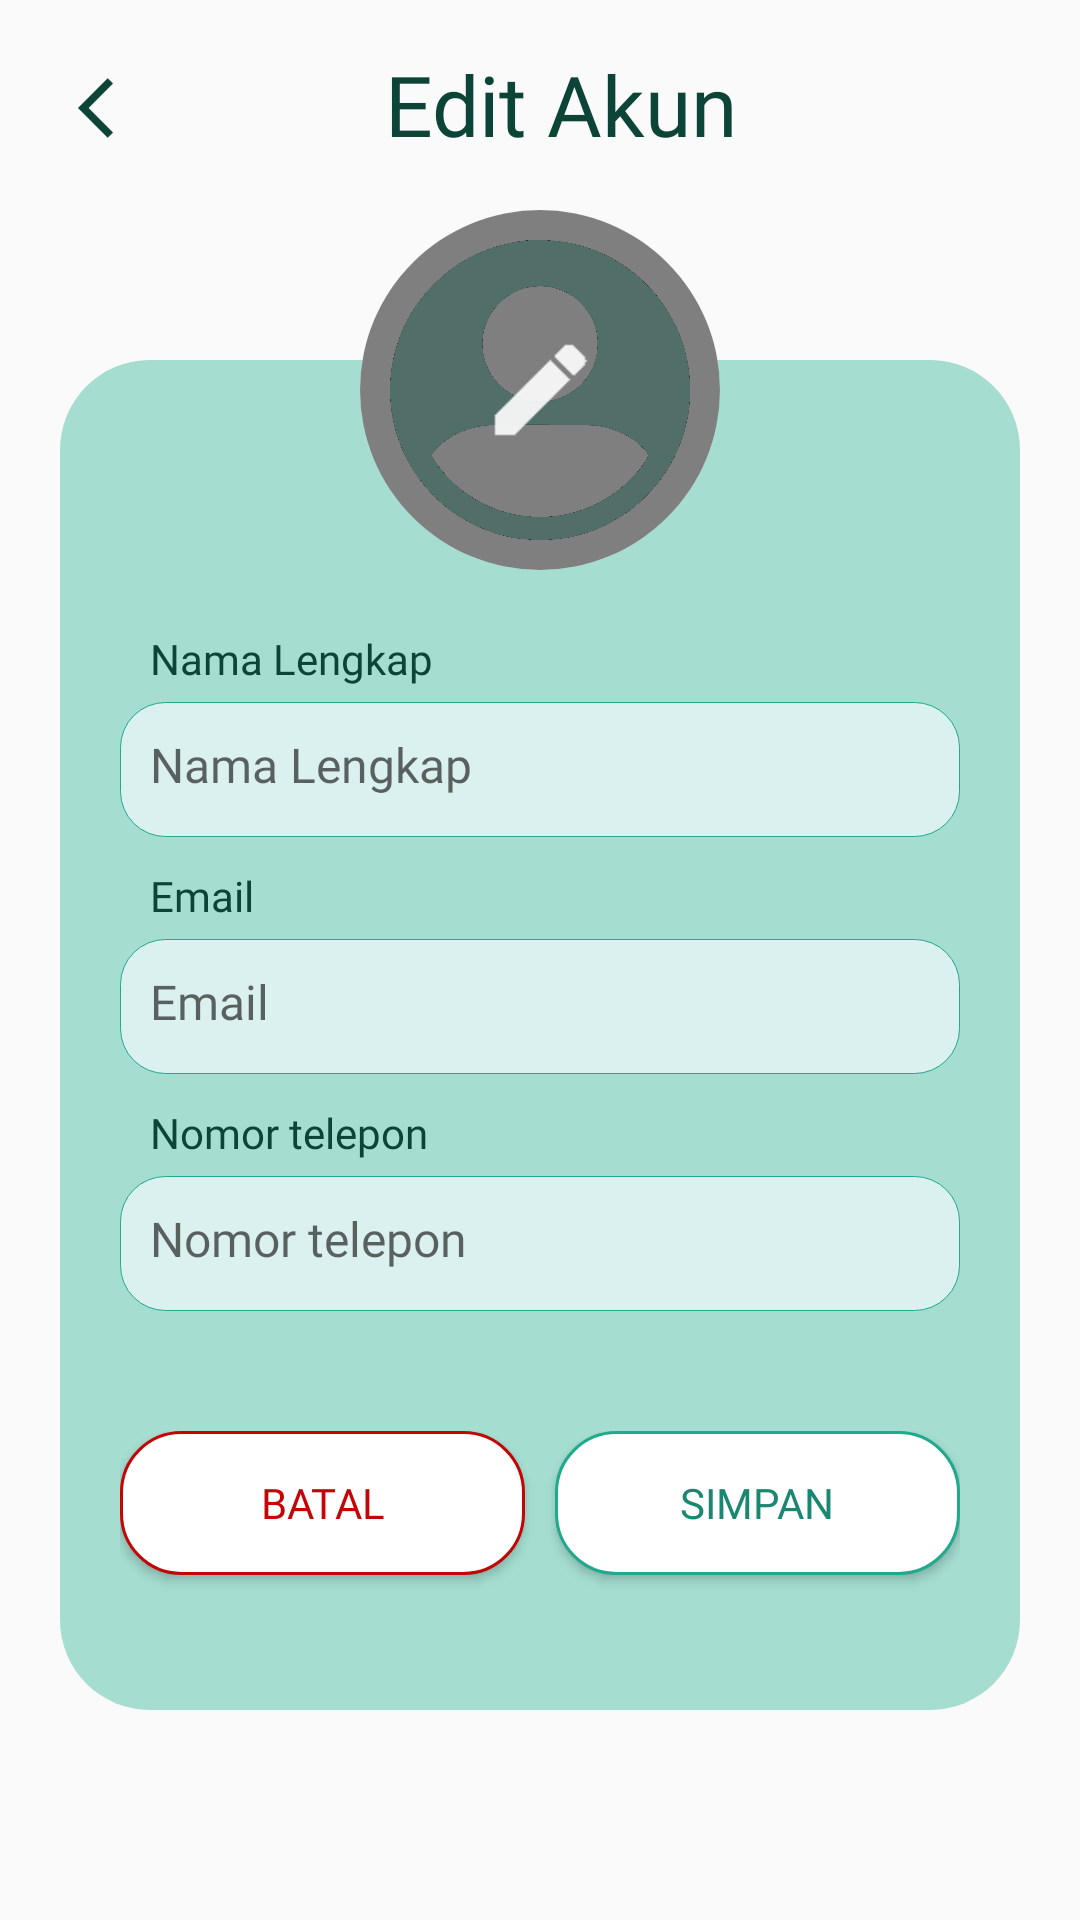

Locate icon controls on the screen. Image size 1080px x 1920px, boxes as (x1, y1, x2, y2).
back: (78, 78, 113, 138)
